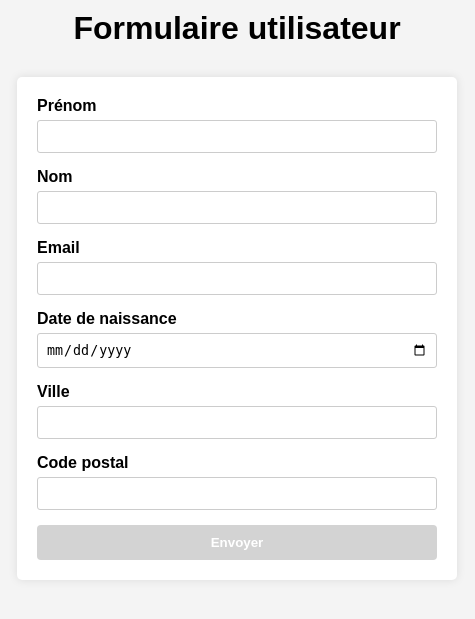
Test: Integration test - User form › should display postal code error under postal code field
Type "75A00" into the field labelled "Code postal" at point(237, 494), box x1=37 y1=477 x2=437 y2=510
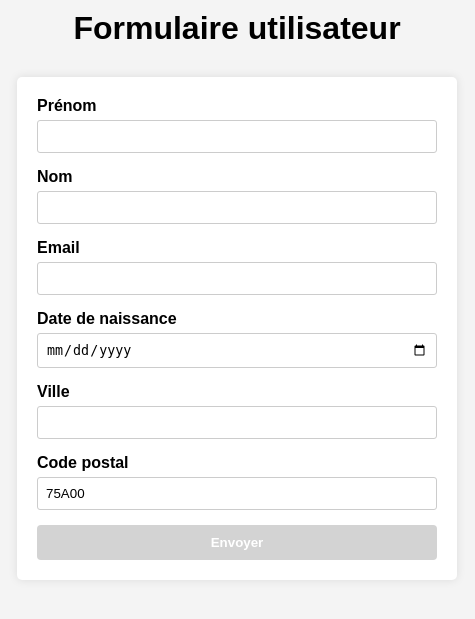
Leave the field labelled "Code postal", box x1=37 y1=477 x2=437 y2=510
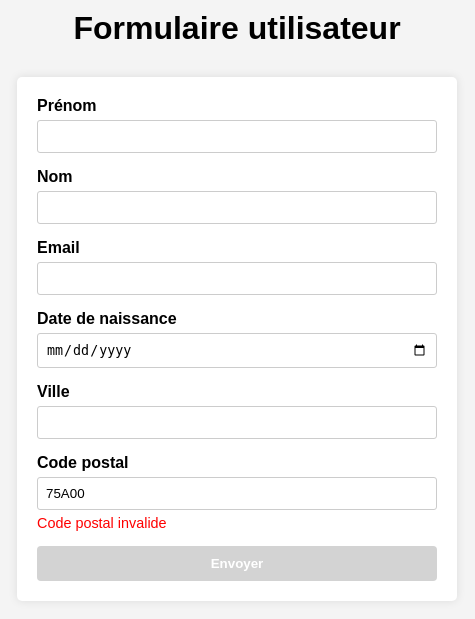
Expected: the text "Code postal invalide" is shown, x1=37 y1=515 x2=167 y2=531
